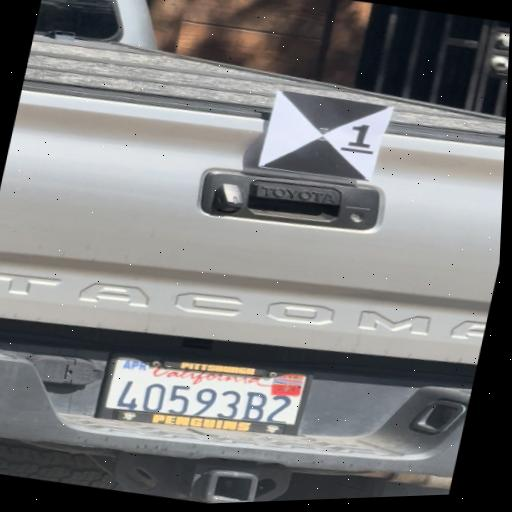target1: (260, 86, 387, 183)
